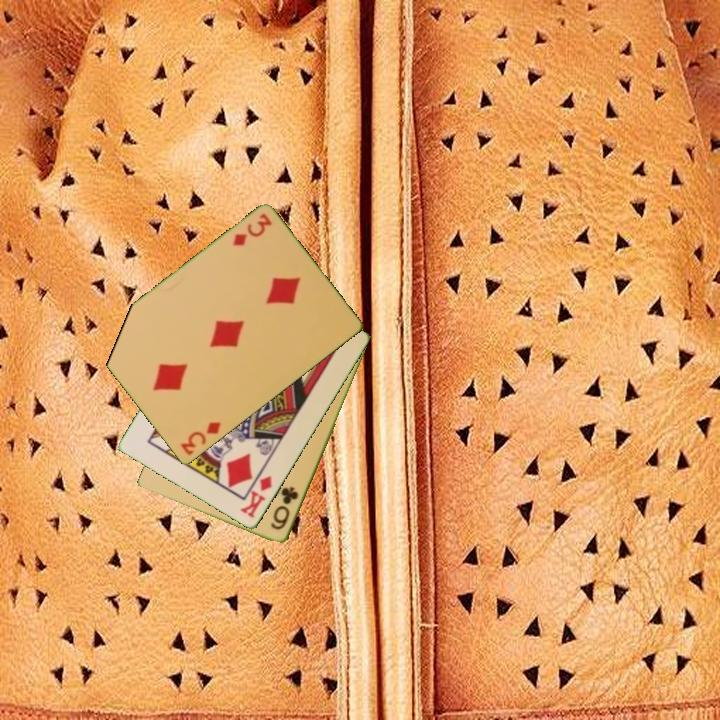3d: (177, 418, 224, 459), (229, 210, 275, 250)
6c: (267, 483, 301, 533)
Kd: (237, 472, 275, 521)
